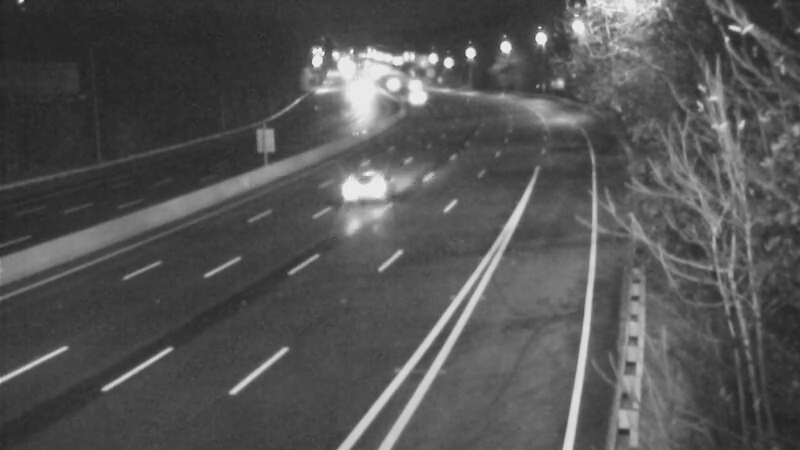vehicle: (324, 154, 404, 234), (386, 60, 436, 110), (368, 59, 418, 109), (392, 72, 442, 122), (338, 70, 388, 120)
